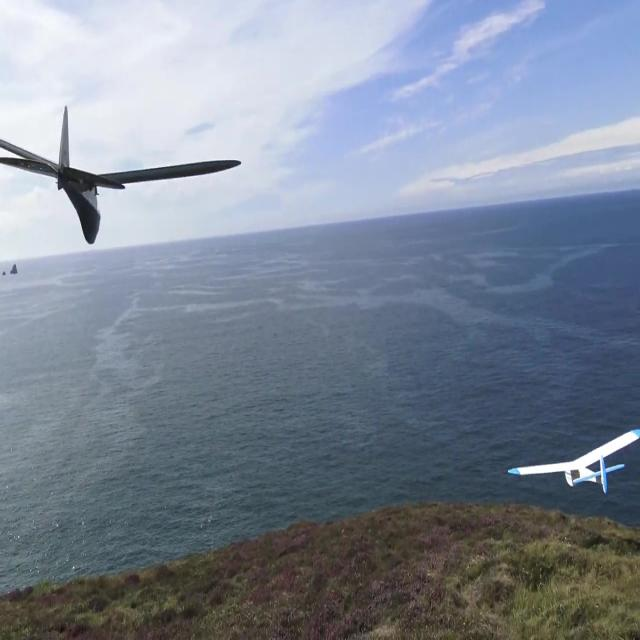iha: (0, 103, 178, 246), (506, 458, 640, 463)
